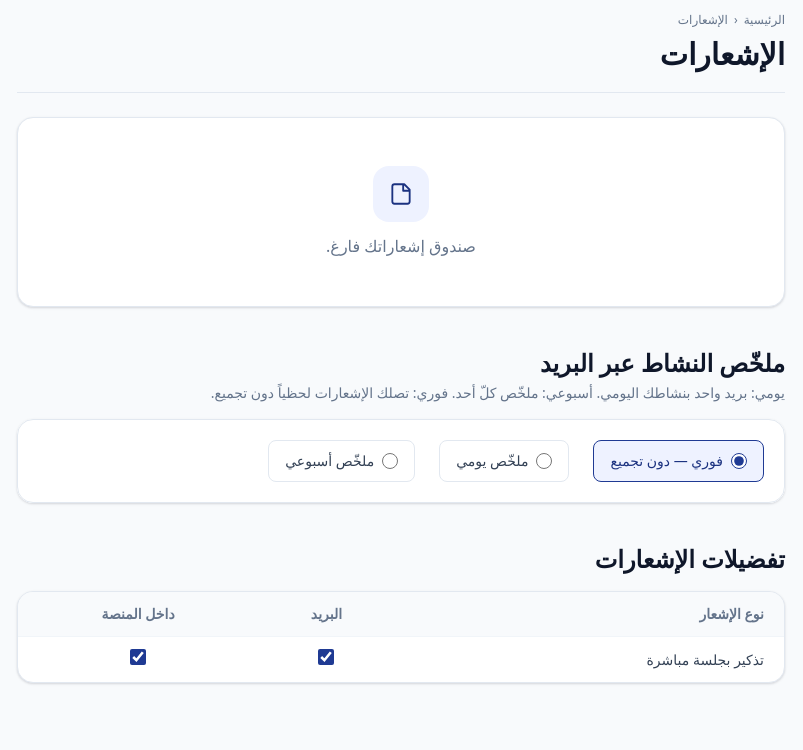
Test: NotificationsPage — رسائل الحالة بعد الحفظ › يعرض رسالة خطأ (role=alert) عند فشل الحفظ
Click the radio button labelled "ملخّص يومي" at (544,461), box [536, 453, 552, 469]
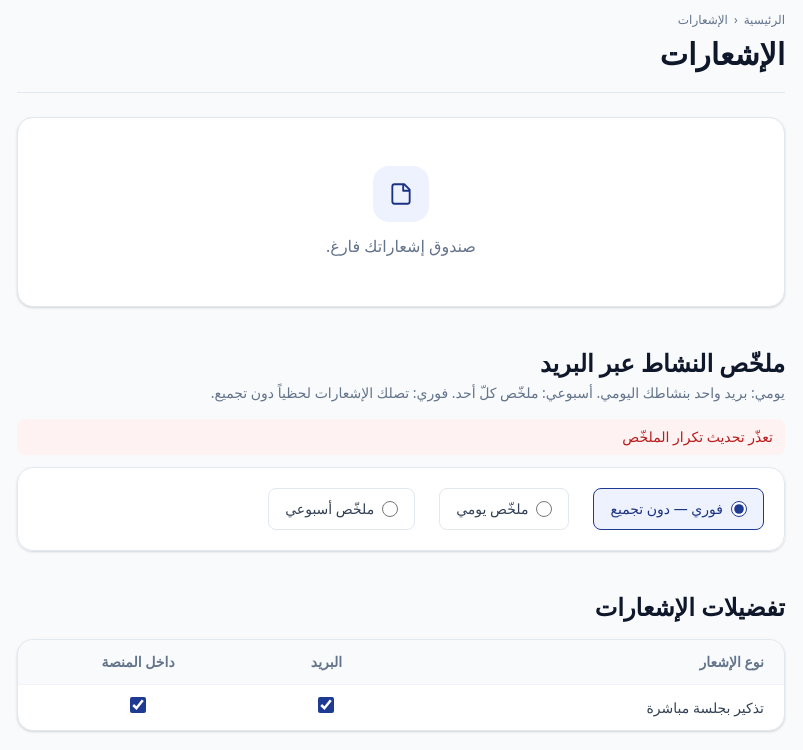
expect the message "تعذّر تحديث تكرار الملخّص" is shown: met, box [17, 419, 785, 455]
